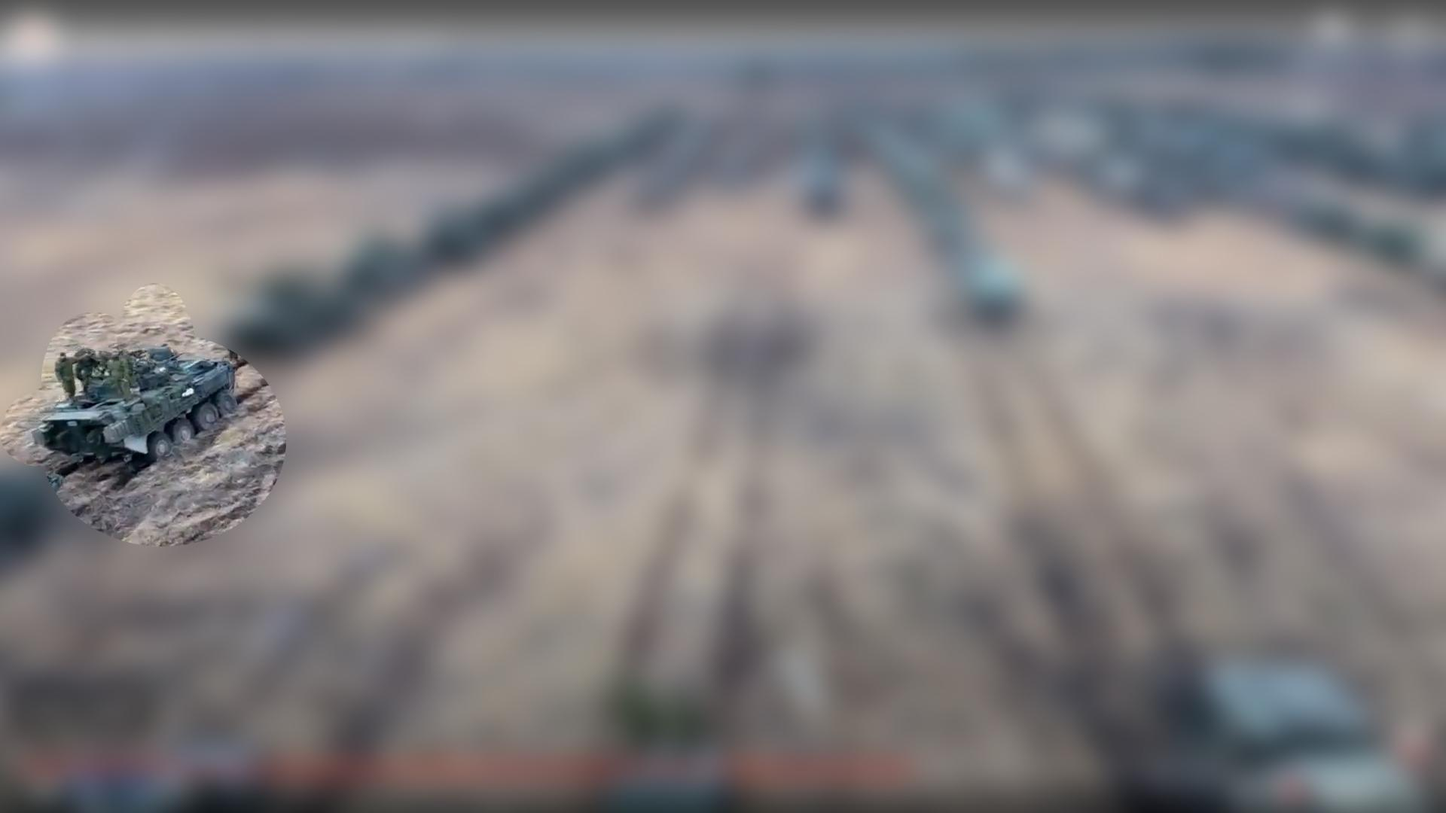armored_car: (23, 346, 246, 465)
